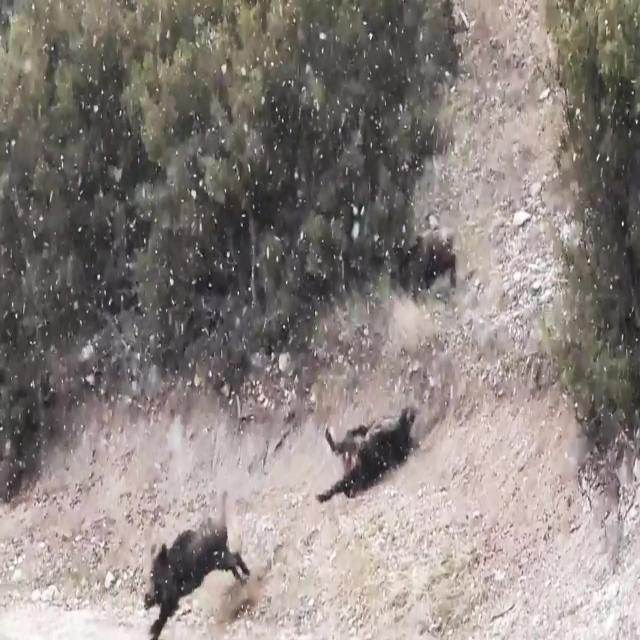pig: (138, 495, 250, 640)
